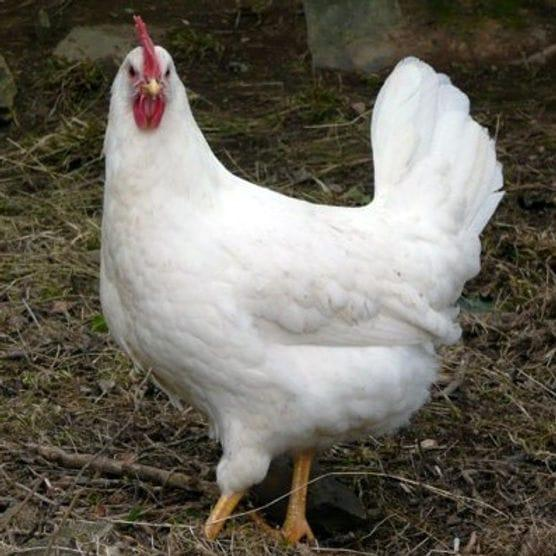Healthy: (85, 13, 506, 536)
